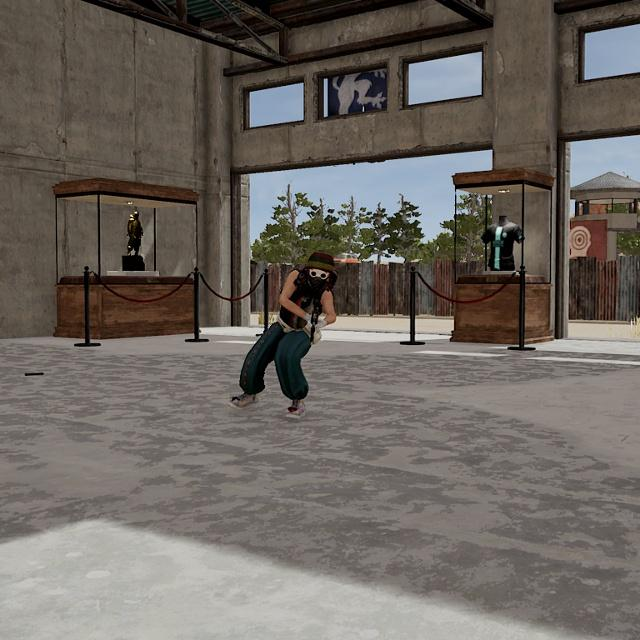head: (304, 248, 337, 293)
people: (228, 247, 338, 418)
